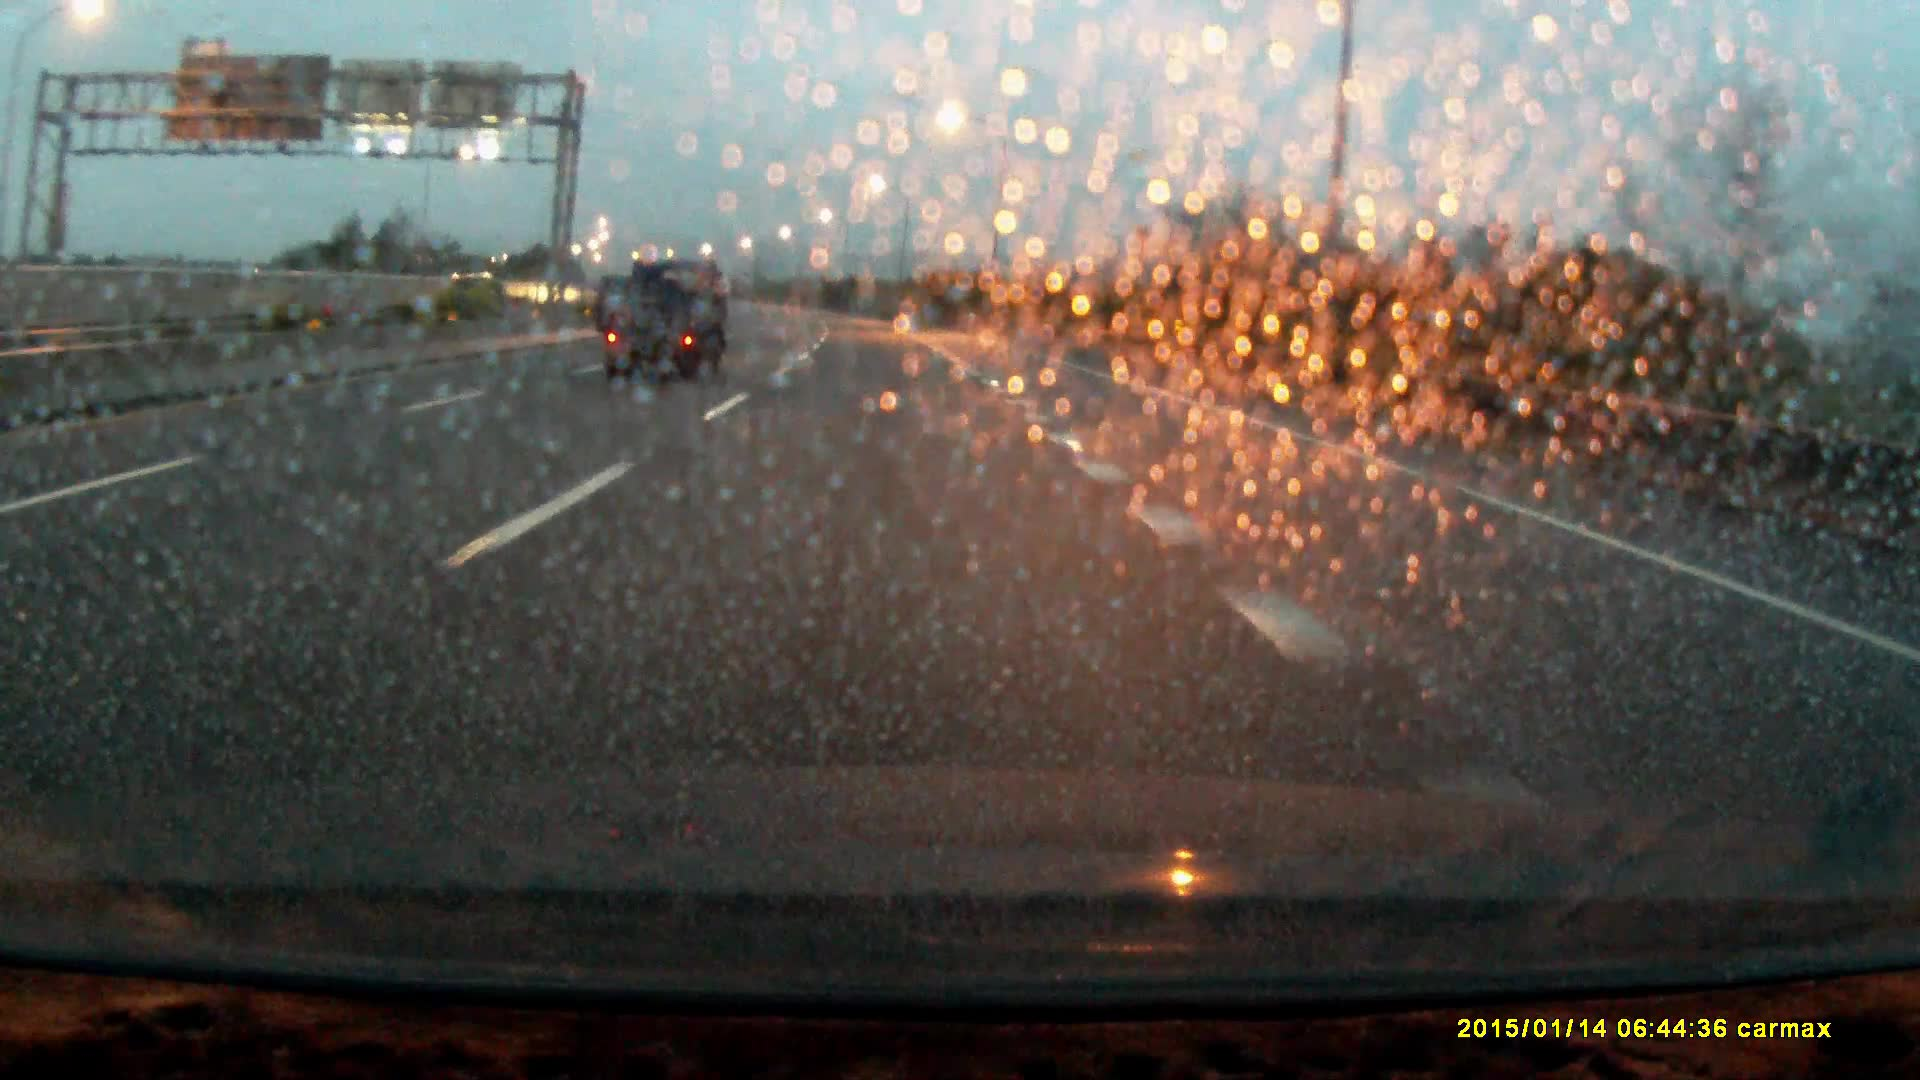vehicle: (603, 255, 733, 378), (450, 268, 545, 310)
